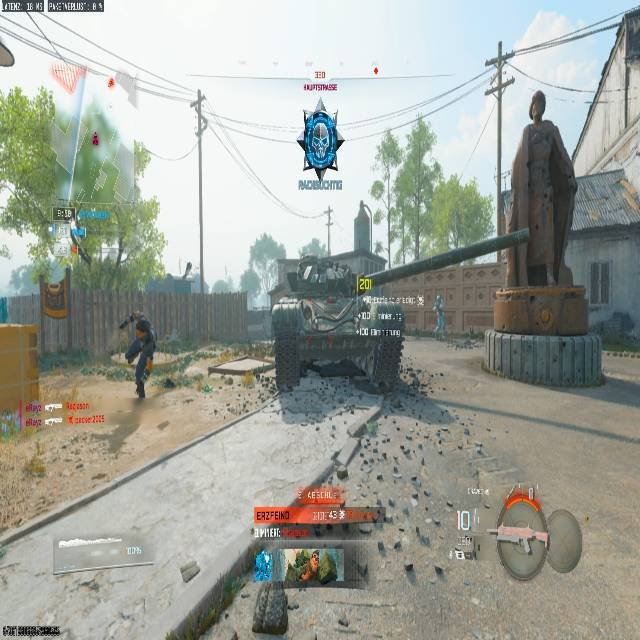head: (130, 309, 143, 320), (132, 312, 140, 326)
player: (296, 106, 343, 179), (119, 309, 156, 400)
